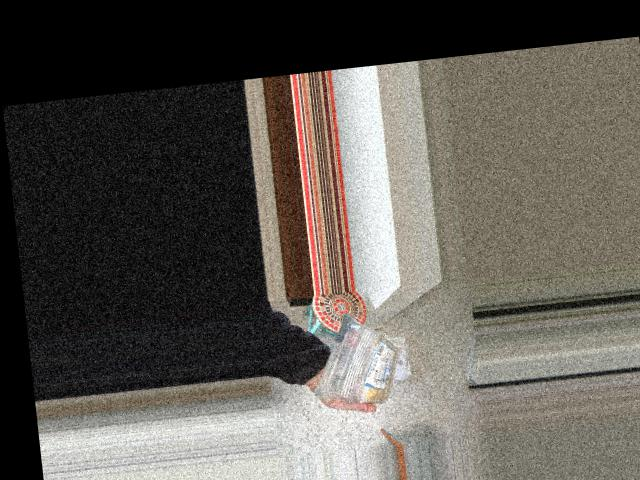cheese: (305, 301, 421, 408)
